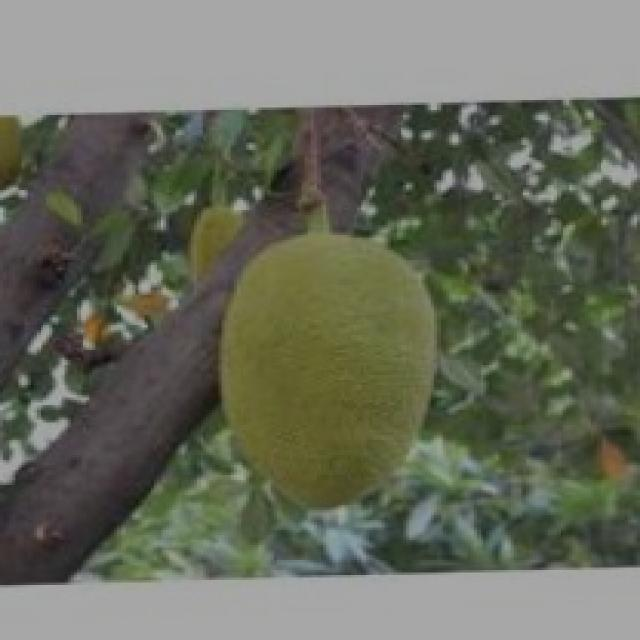Fruit: (190, 208, 468, 530)
